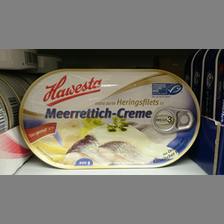fish: (18, 69, 201, 169)
